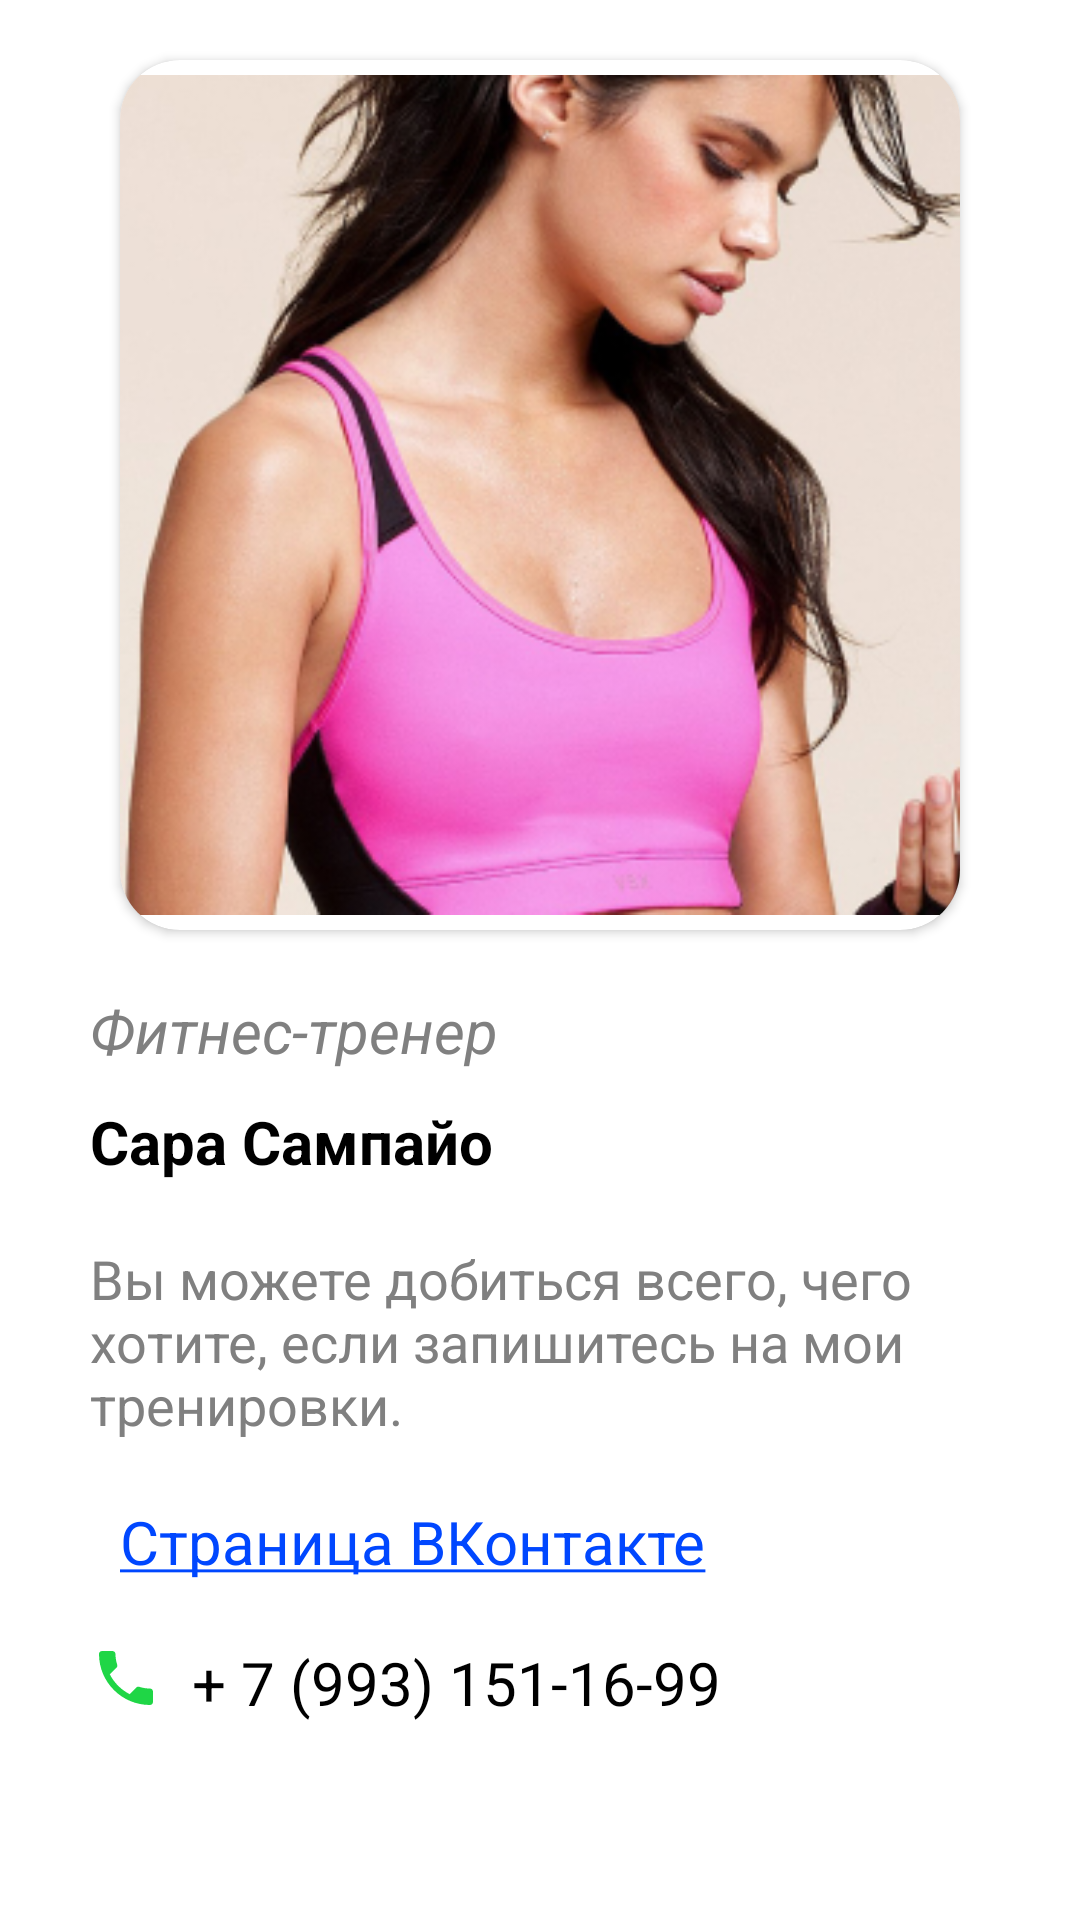

Point at icon controls on the screen. Image size 1080px x 1920px, points as (x,y).
phone: (126,1678)
